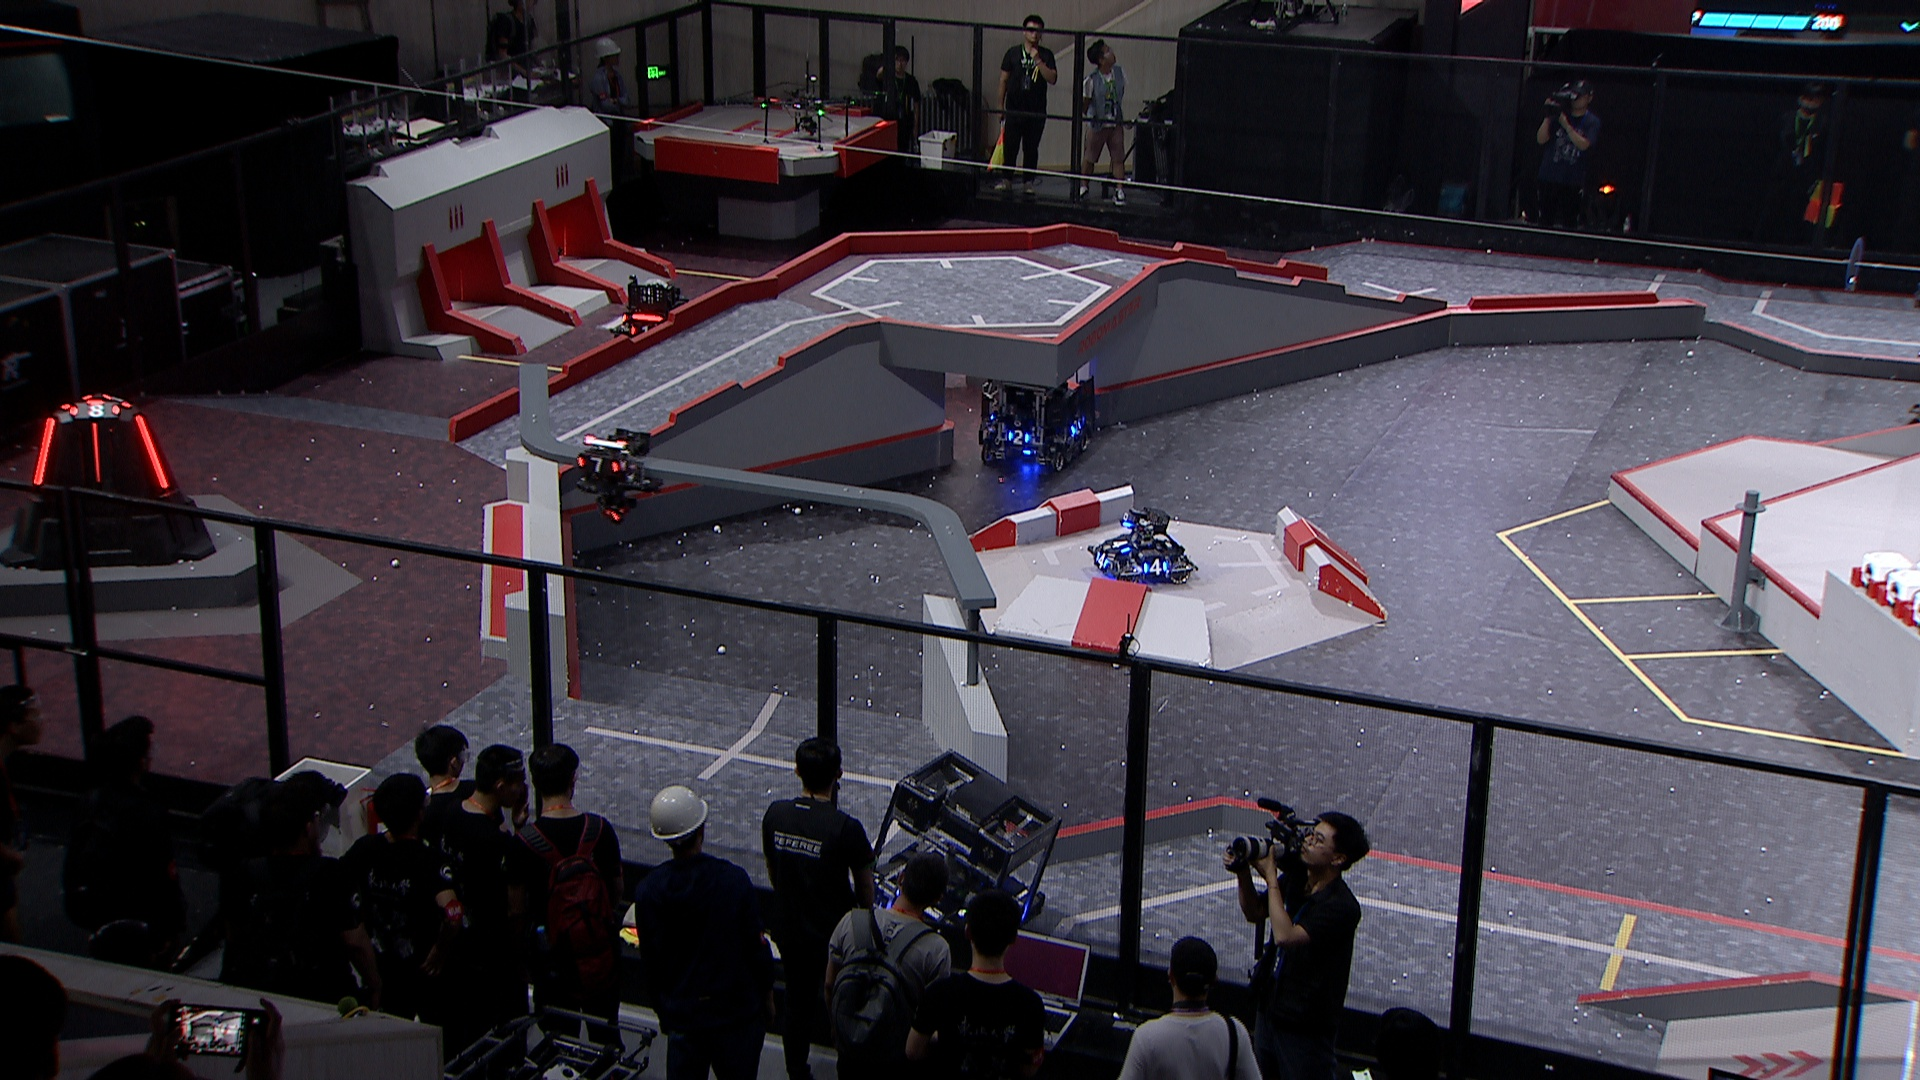armor: (135, 409, 174, 493), (32, 417, 59, 488), (87, 423, 105, 485), (571, 454, 621, 475), (65, 404, 121, 419), (1141, 556, 1168, 578), (1006, 429, 1031, 448), (1110, 534, 1131, 555), (1092, 550, 1112, 570), (1065, 419, 1087, 438), (626, 324, 650, 338)
base: (0, 396, 216, 568)
car: (855, 746, 1063, 955), (973, 367, 1100, 475), (1087, 508, 1197, 585), (611, 277, 708, 356)
watcher: (567, 429, 661, 526)
